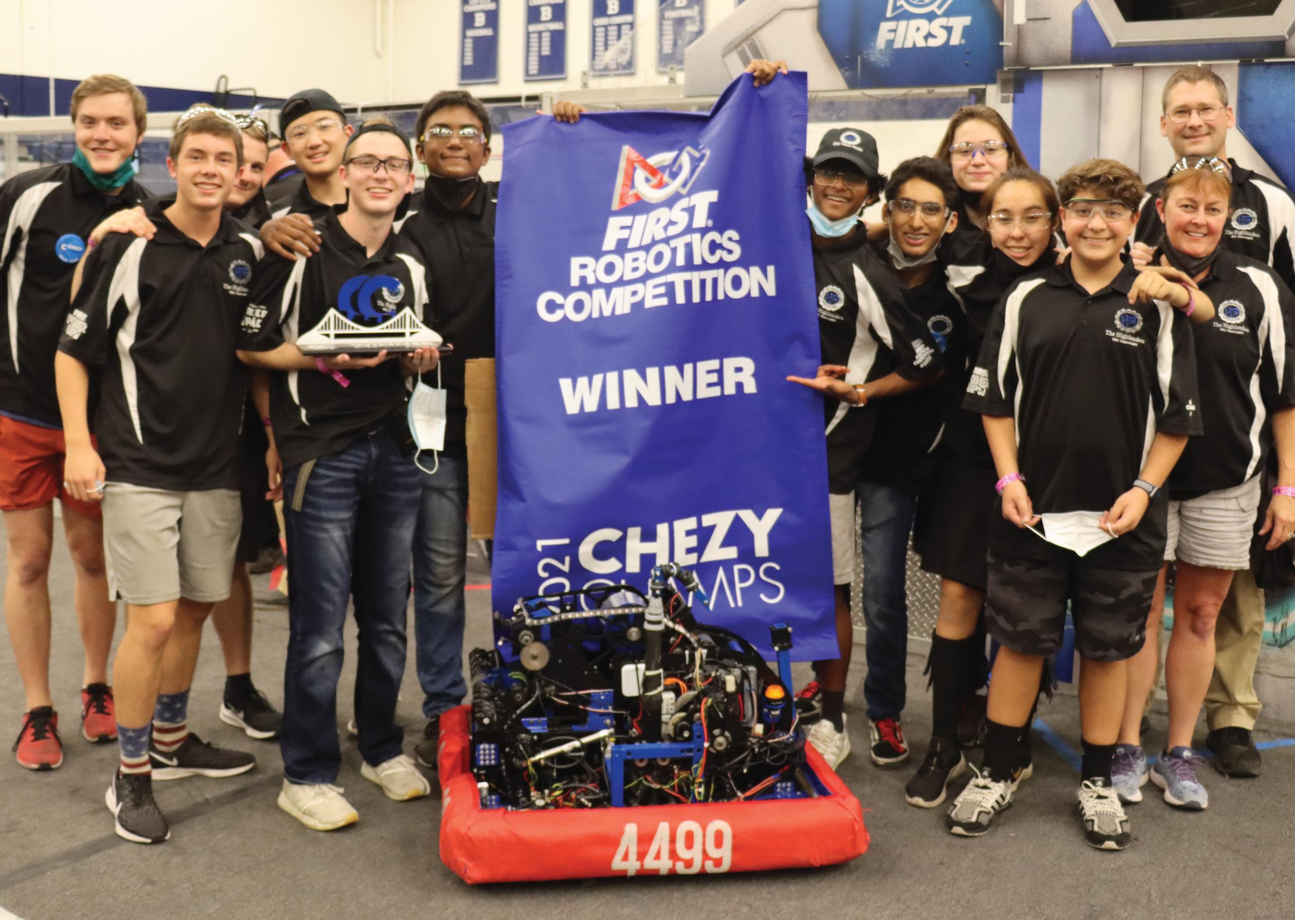robot: (425, 554, 880, 892)
